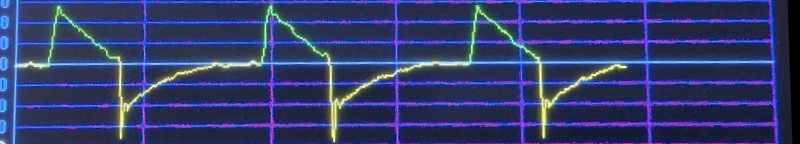normal_flow: (12, 0, 635, 144)
